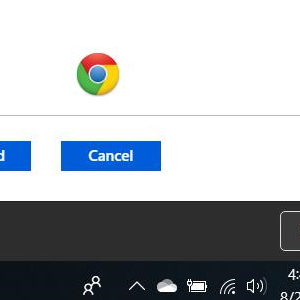chrome: (76, 52, 120, 97)
